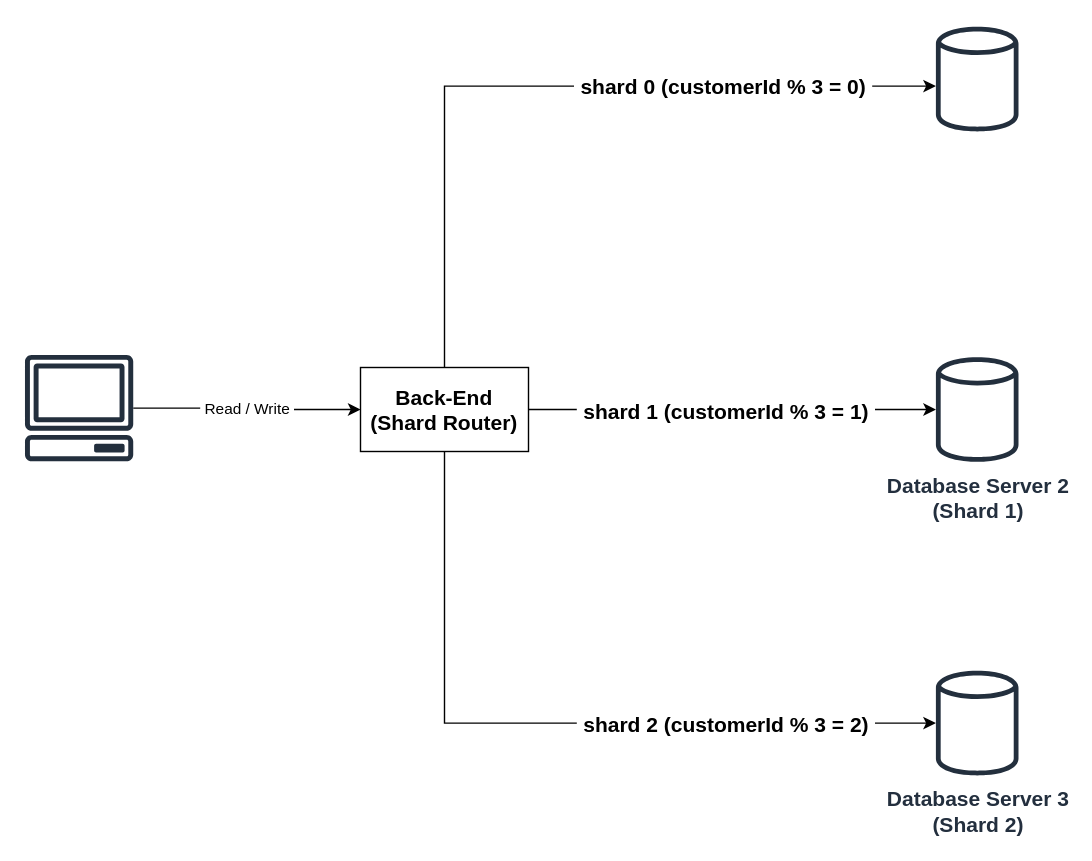
Some shapes in this 1092 by 861 pixel diagram are drawn without their labels. Here are the shapes that lost their labels. From the top down, the box of each, then its label:
(935, 24, 1018, 133): Database Server 1 (Shard 0)
(24, 354, 133, 461): Front-end
